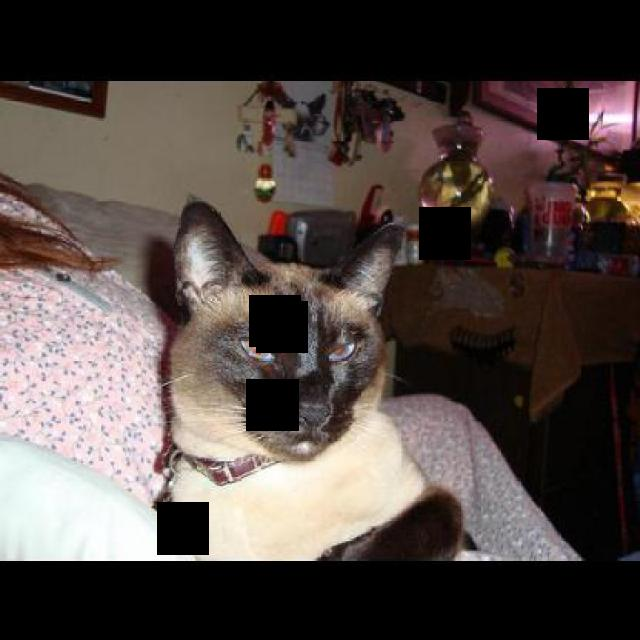unauthorized: (152, 197, 471, 560)
